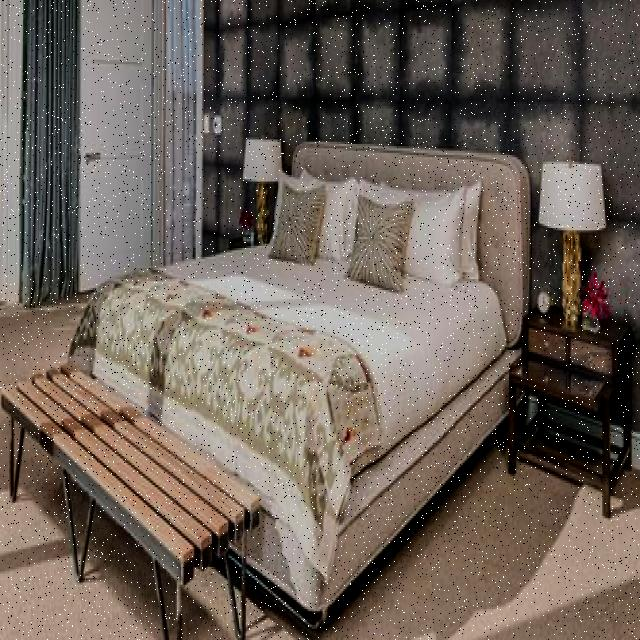bed: (81, 145, 528, 495)
